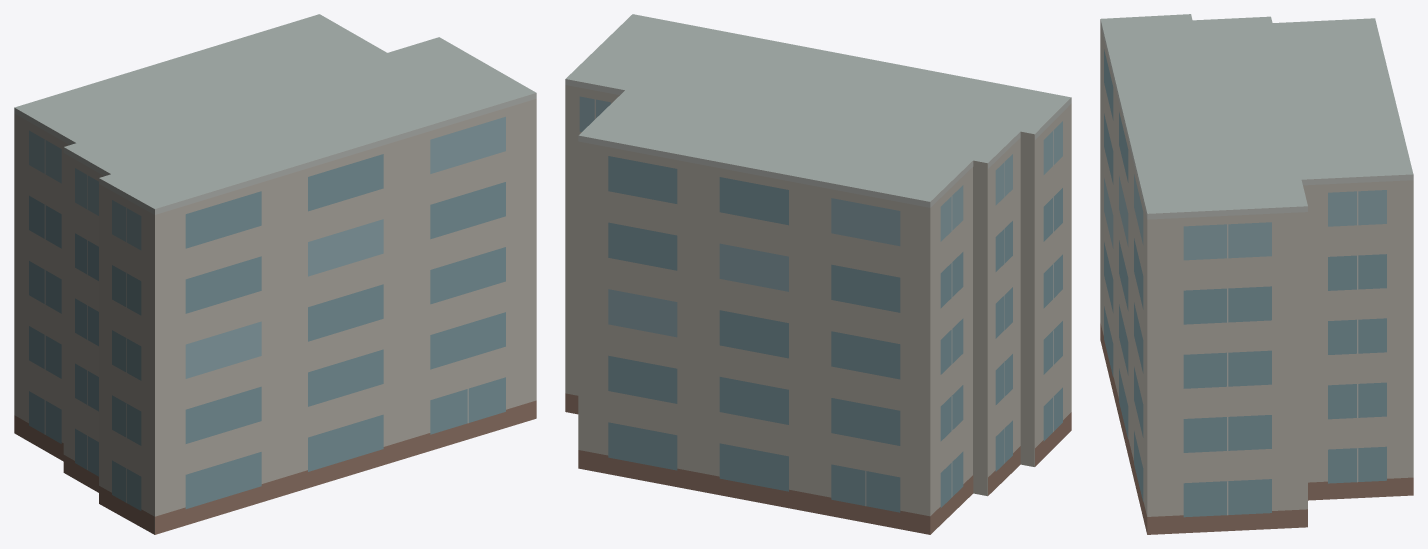
File: survey-upis-33046058.glb
3 renders of one model, left to right at view 1: azimuth 30°, elevation 25°; view 2: azimuth 150°, elevation 25°; view 3: azimuth 270°, elevation 25°, orthographic. The views are drawn at different scales.
Visible parts, largest first — view 1: survey-upis-33046058.tmp; view 2: survey-upis-33046058.tmp; view 3: survey-upis-33046058.tmp.
Part boxes in pixels (x1,y1,x2,y2): survey-upis-33046058.tmp: (14,14,536,534); survey-upis-33046058.tmp: (565,14,1071,534); survey-upis-33046058.tmp: (1100,14,1413,534).
Size of the model in its own units: 18.17 by 13.6 by 12.03.
